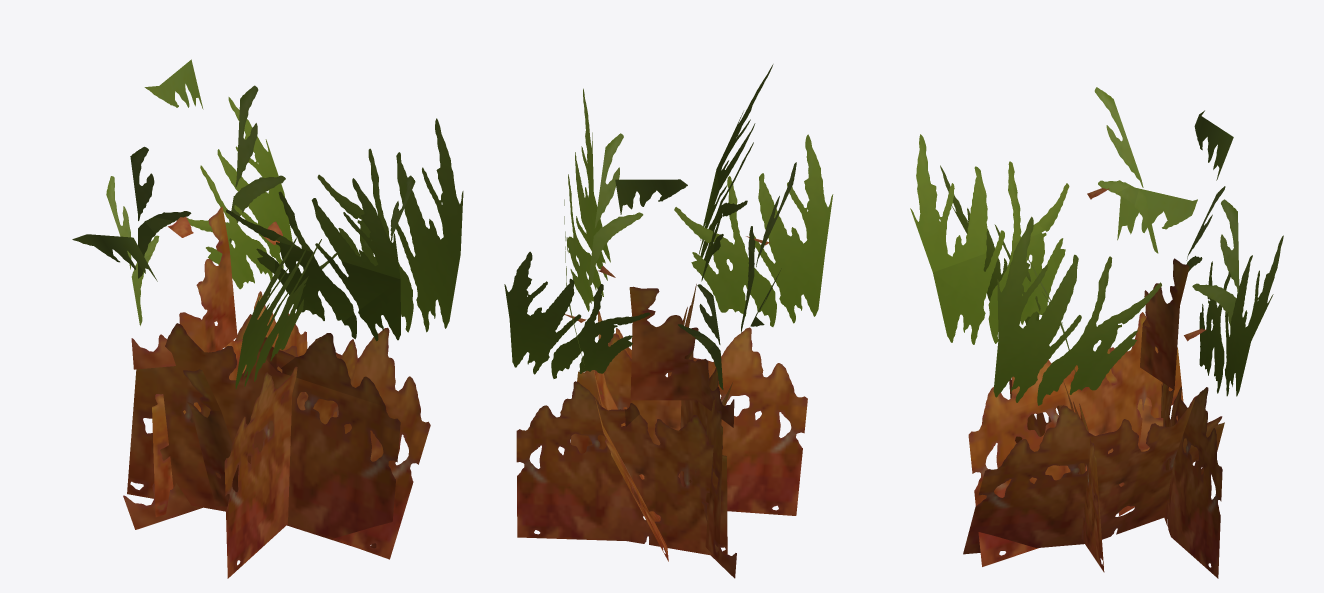
The model's file is City_bujian_43.fbx.
3 views of the same model, side by side, from view 1: azimuth 30°, elevation 25°; view 2: azimuth 150°, elevation 25°; view 3: azimuth 270°, elevation 25° (orthographic). The views are drawn at different scales.
Parts seen in each view (by area): view 1: pasted__Mesh_0127; view 2: pasted__Mesh_0127; view 3: pasted__Mesh_0127.
Part boxes in pixels (bbox=[...]): pasted__Mesh_0127: bbox=[72, 59, 463, 578]; pasted__Mesh_0127: bbox=[504, 64, 833, 578]; pasted__Mesh_0127: bbox=[910, 87, 1283, 578].
Size of the model in its own units: 1.02 by 1.39 by 1.19.
